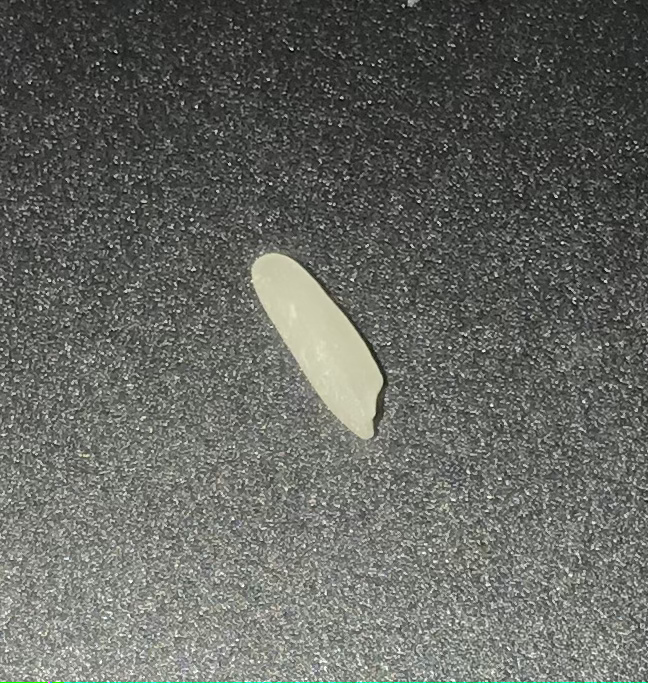Gao Tam Thom: (238, 238, 396, 443)
